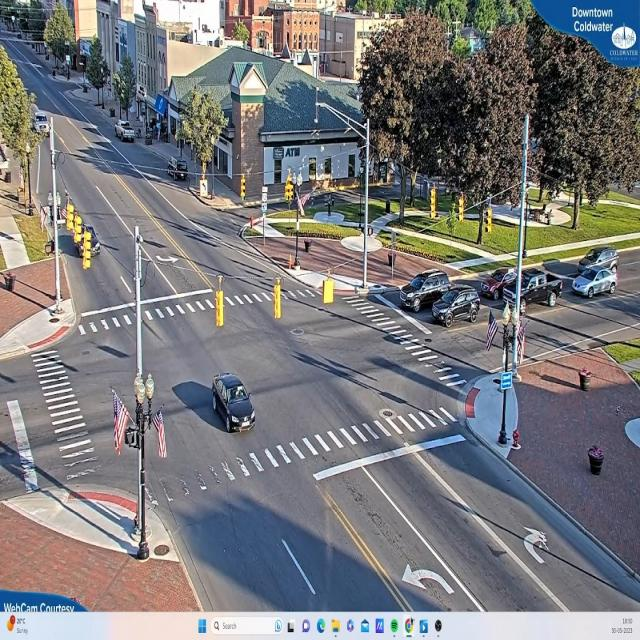car: (487, 270, 562, 310), (211, 372, 256, 432), (400, 272, 455, 314), (432, 290, 479, 327), (572, 268, 618, 299), (76, 224, 99, 259), (117, 122, 137, 145), (34, 115, 51, 133)
